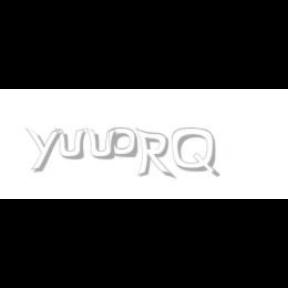Q: (172, 128, 218, 178)
R: (135, 128, 173, 180)
o: (108, 128, 138, 158)
u: (54, 128, 90, 160), (86, 128, 120, 160)
y: (25, 128, 65, 172)
